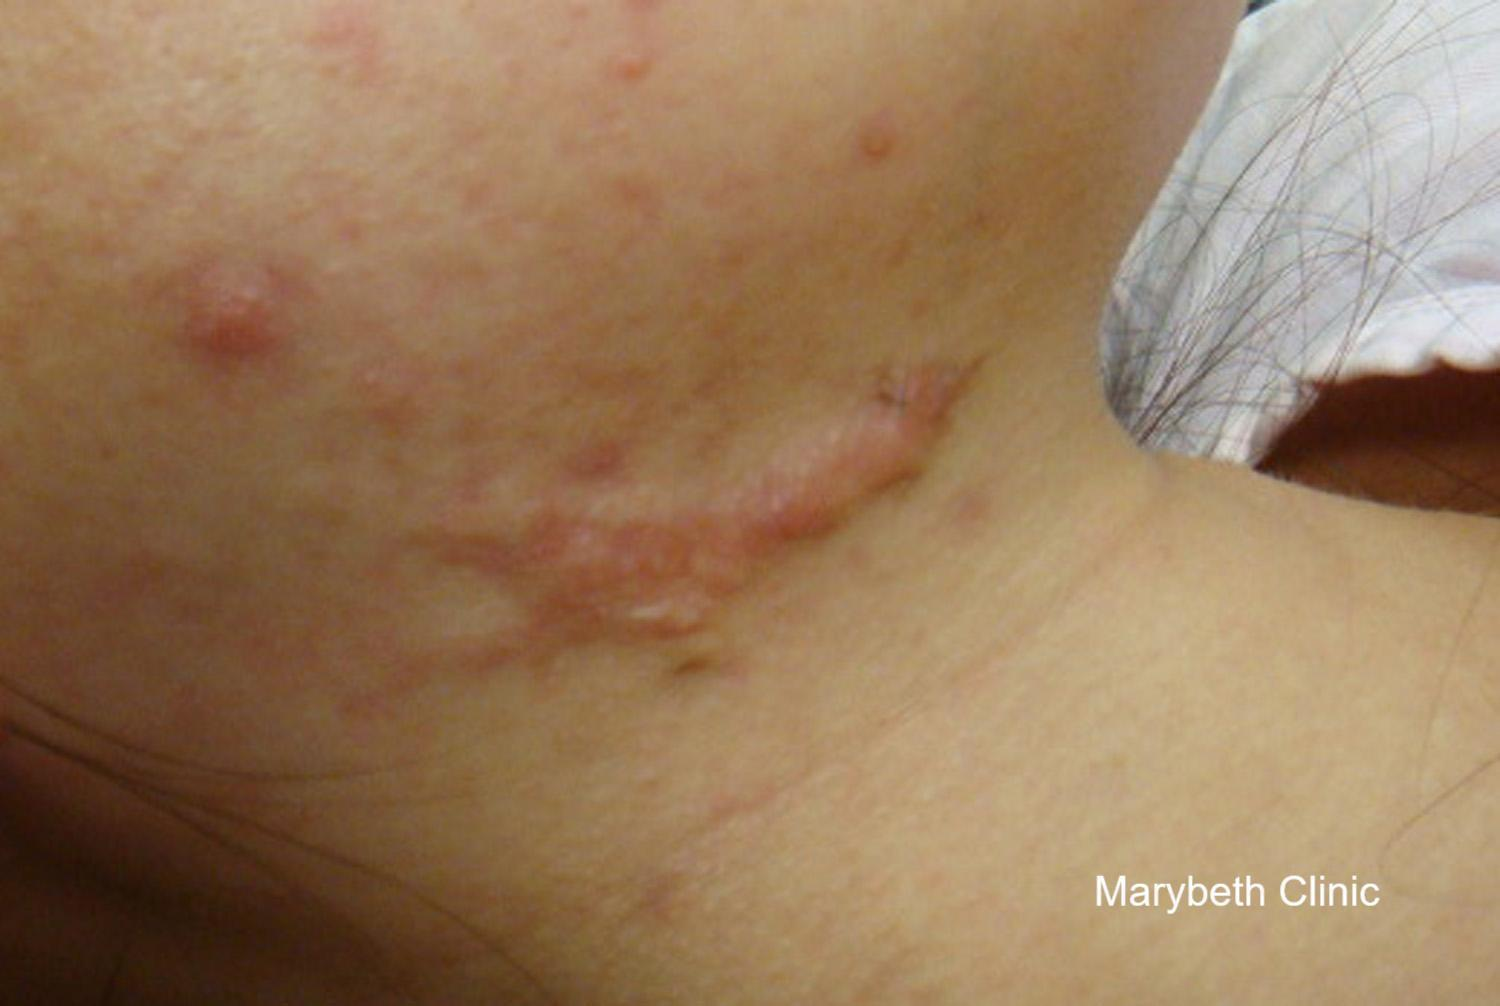keloid: (467, 327, 1000, 706), (152, 275, 335, 392)
